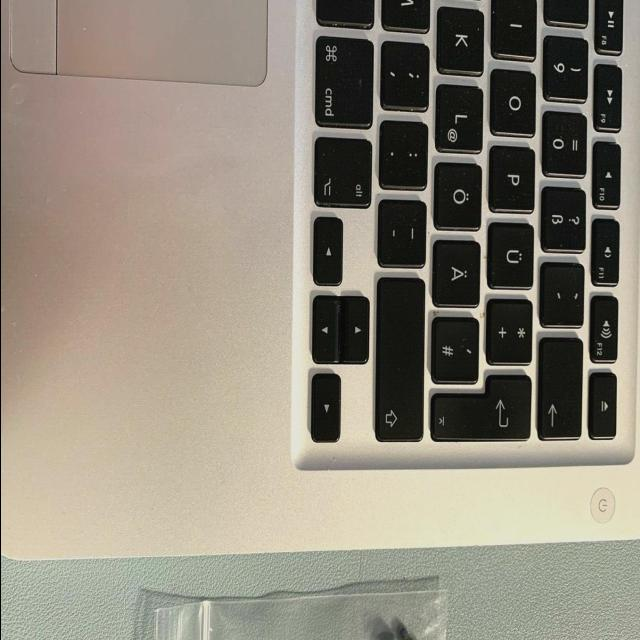0: (543, 108, 589, 178)
8: (544, 0, 591, 32)
9: (544, 33, 591, 101)
accent: (542, 259, 588, 327)
ae: (434, 237, 484, 307)
altgr-right: (312, 134, 374, 210)
comma: (381, 38, 432, 112)
del: (540, 334, 585, 440)
enter: (431, 371, 535, 441)
hash: (433, 313, 482, 382)
i: (493, 0, 539, 60)
j: (438, 0, 488, 31)
k: (437, 5, 487, 76)
keyboard: (289, 0, 640, 470)
l: (436, 82, 485, 153)
m: (381, 1, 433, 33)
minus: (379, 196, 429, 267)
o: (491, 66, 539, 136)
oe: (435, 160, 485, 230)
p: (490, 143, 538, 213)
plus: (488, 296, 536, 364)
point: (381, 119, 431, 191)
shift-right: (377, 272, 427, 441)
space: (314, 0, 377, 48)
ss: (542, 184, 588, 252)
u: (492, 0, 540, 23)
ue: (489, 219, 538, 288)
